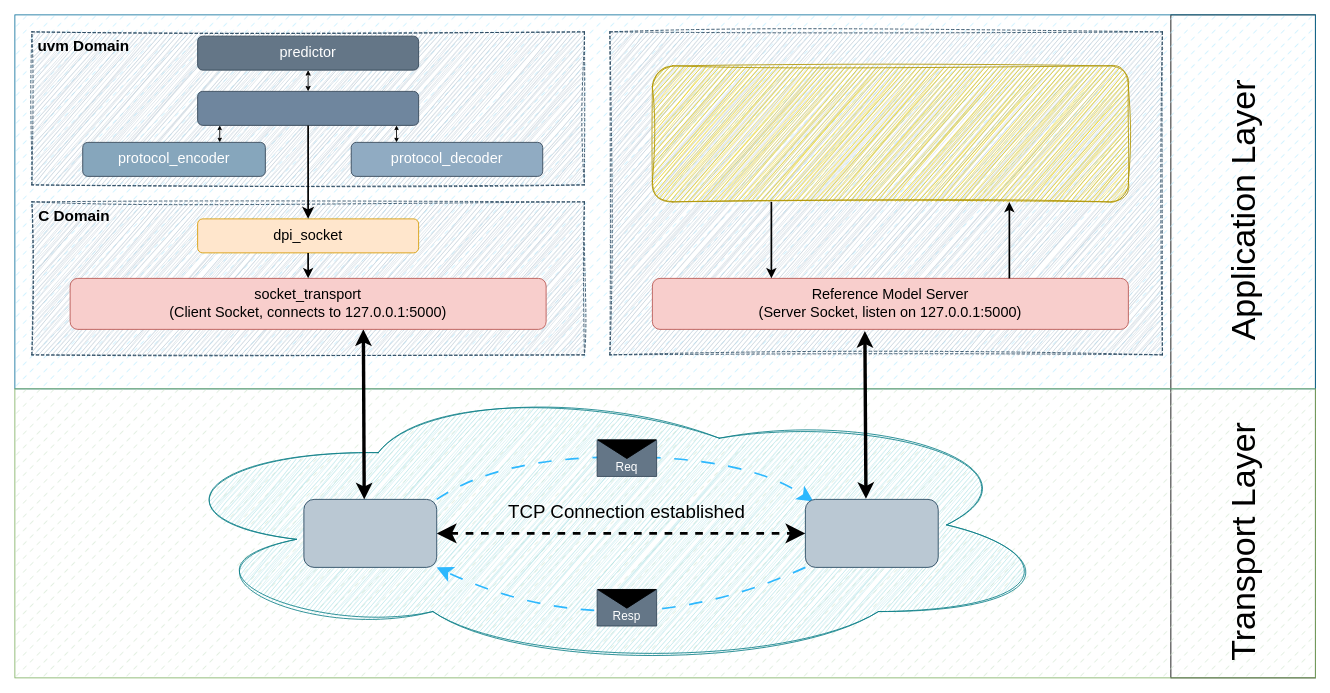
Some shapes in this 1330 by 693 pixel diagram are drawn without their labels. The box of each missing label's shape, as (x1, y1, x2, y2) in pixels:
C-Side TCP/IP Stack: (303, 499, 437, 567)
Golden_model: (652, 65, 1128, 202)
Python Domain: (609, 31, 1162, 355)
Python-Side TCP/IP Stack: (805, 499, 938, 567)
reference_model_proxy: (197, 91, 419, 125)
